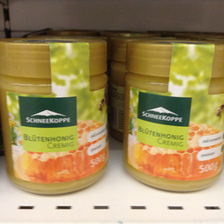honey: (1, 38, 114, 196), (120, 39, 224, 193)
